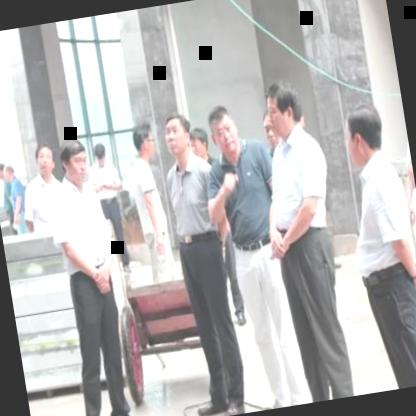head: (338, 97, 389, 168), (261, 78, 306, 144), (203, 98, 243, 162), (158, 108, 196, 162), (56, 134, 92, 185), (129, 120, 158, 166), (184, 122, 214, 166), (29, 140, 56, 184), (256, 107, 280, 154), (89, 140, 108, 170)
